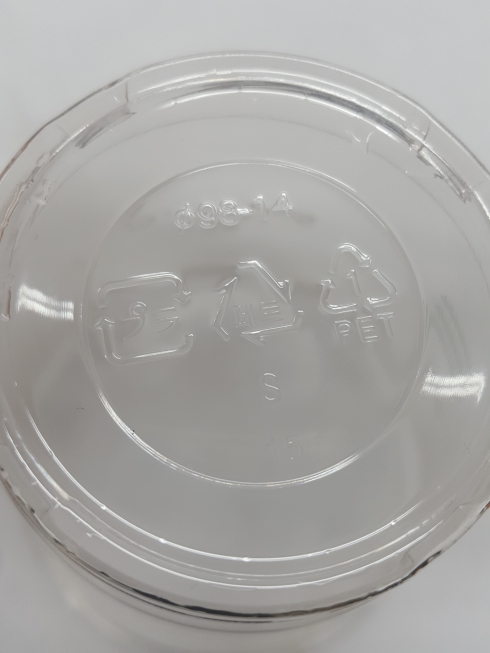recycle: (312, 226, 405, 351)
